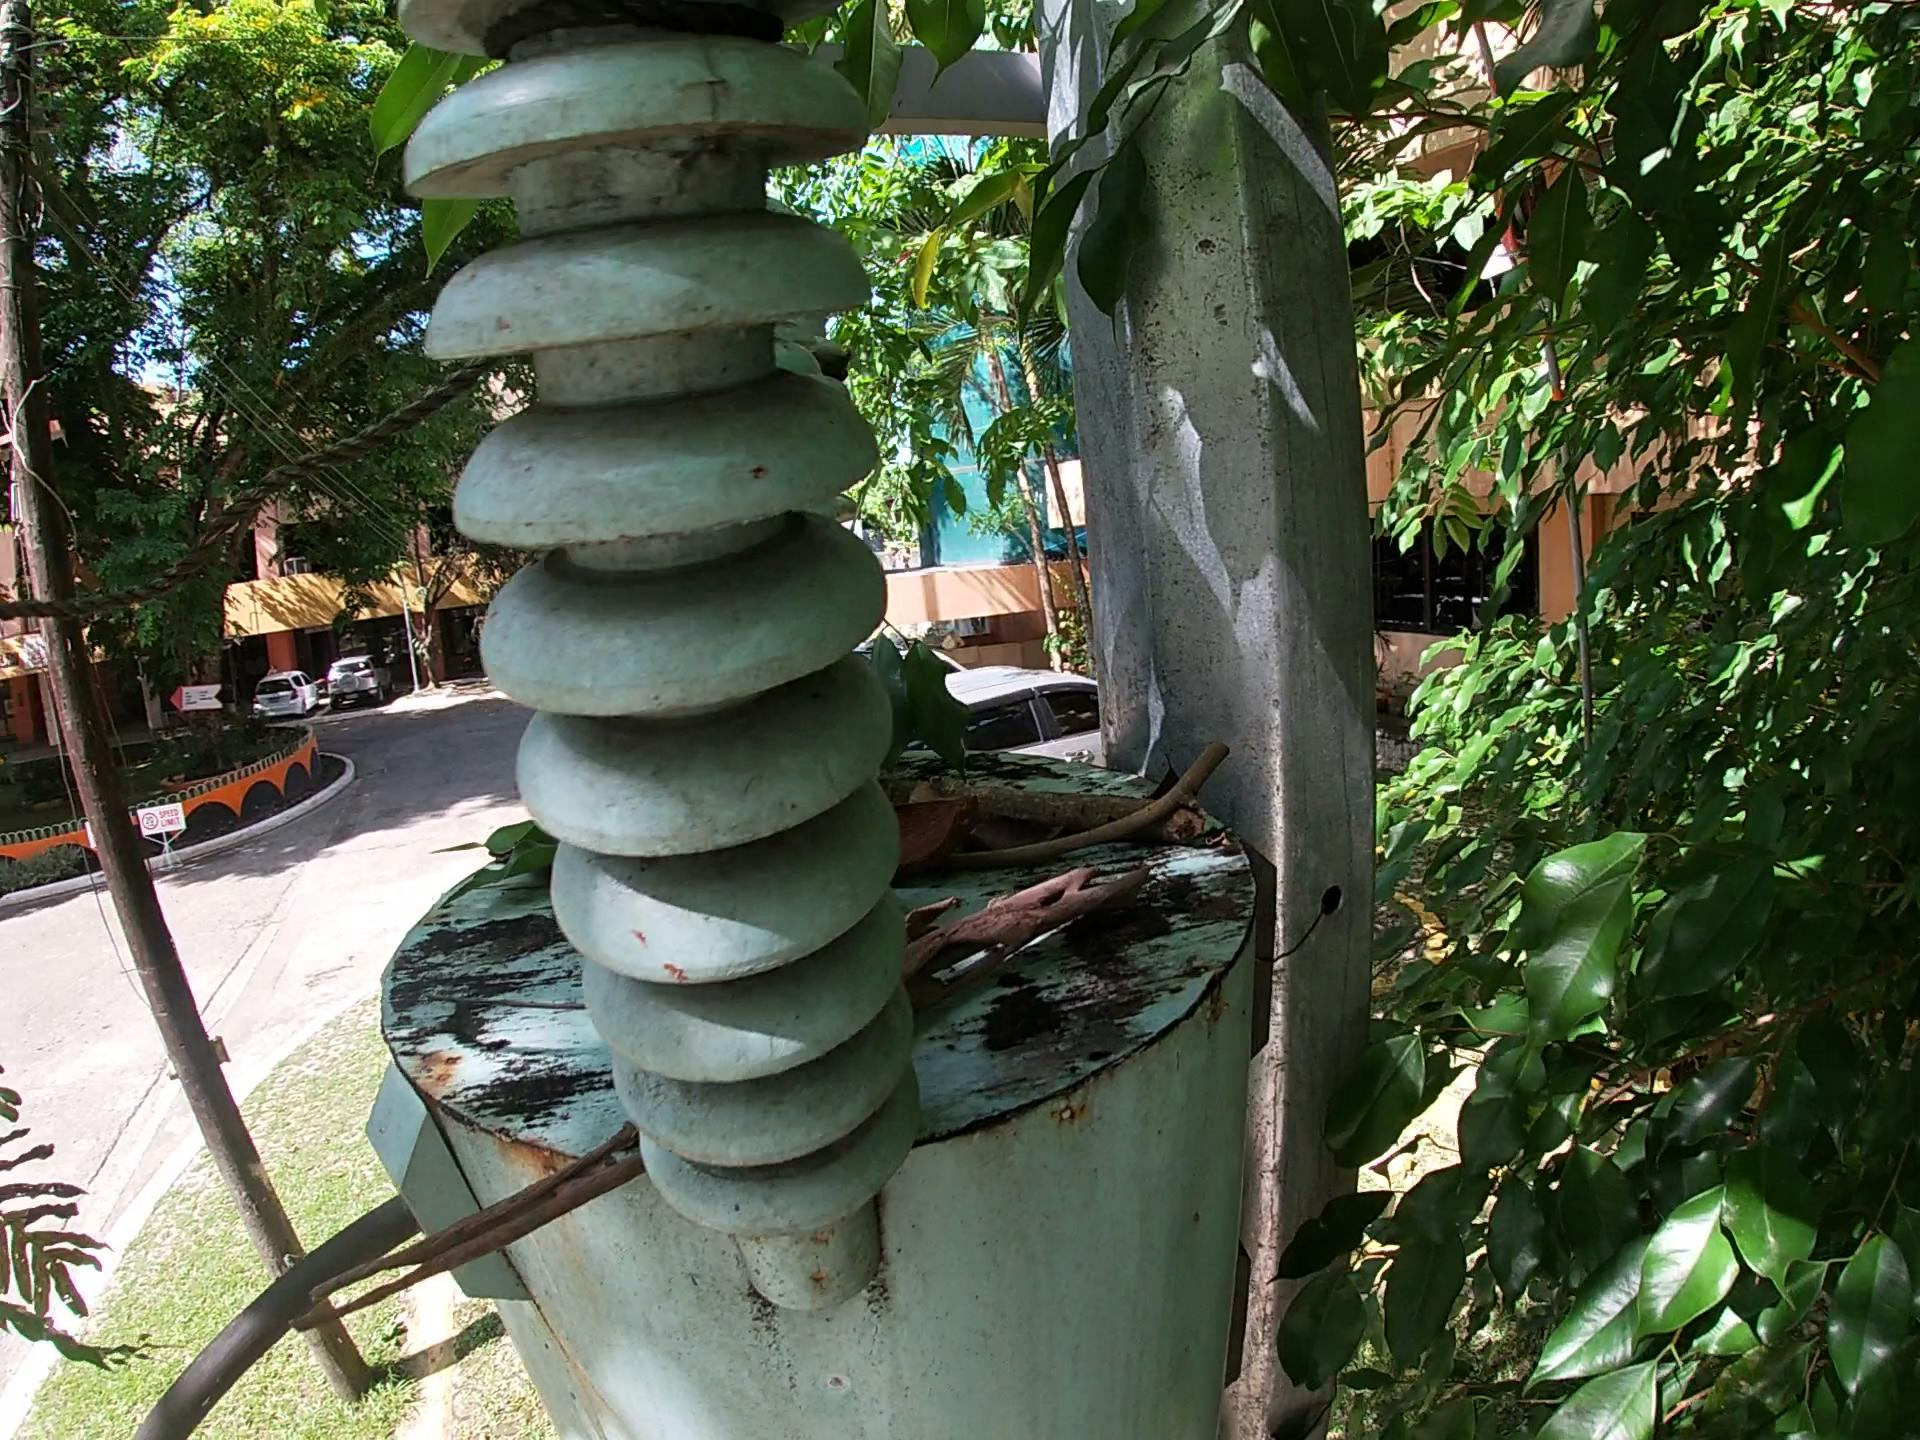leaf: (866, 610, 989, 762), (423, 802, 568, 914)
mahogany fruit: (887, 793, 1005, 858)
tree branch: (283, 1121, 658, 1340), (951, 737, 1276, 871), (897, 864, 1150, 1035), (906, 774, 1206, 846), (411, 985, 603, 1045)
